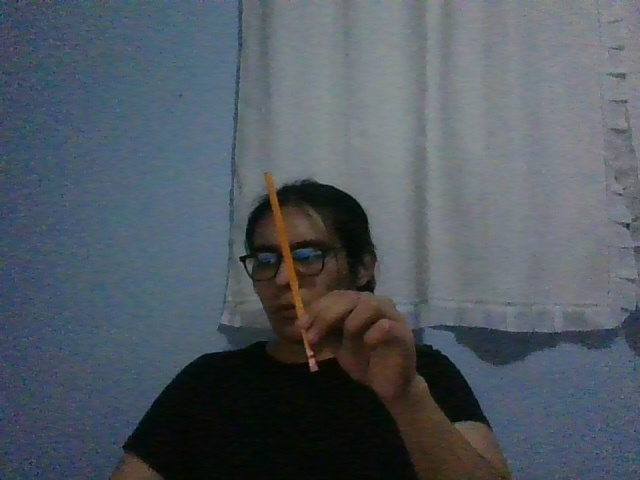lapiz: (263, 171, 318, 372)
